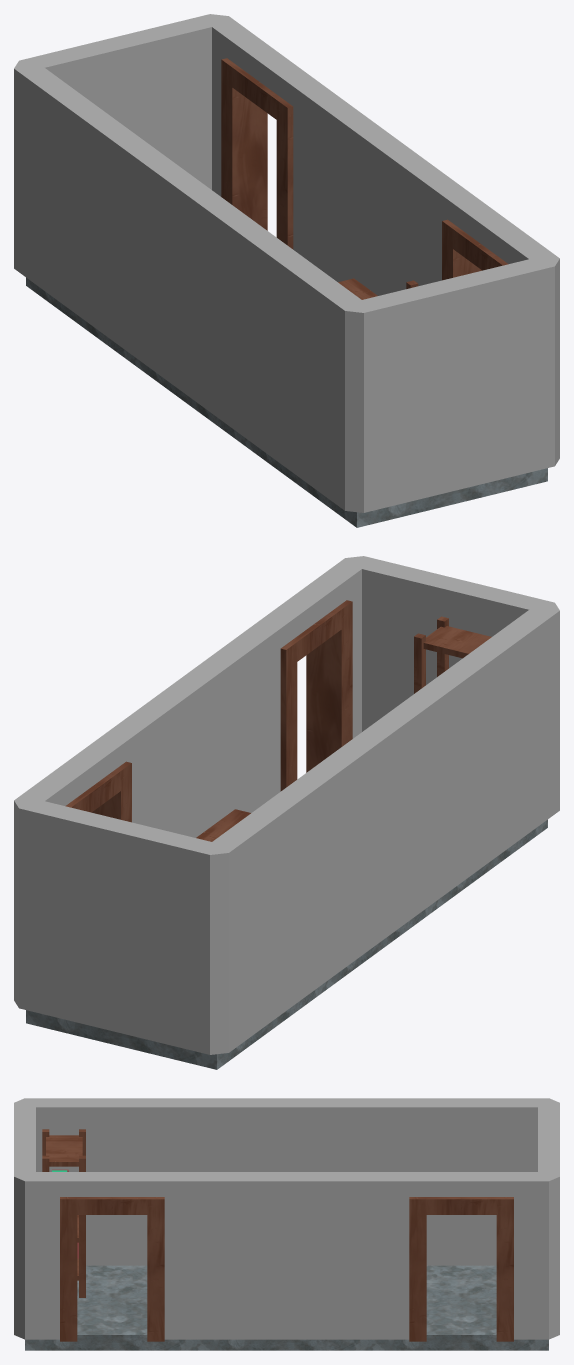
The model's file is Level_1_3.fbx.
3 views of the same model, one above another, from view 1: azimuth 30°, elevation 25°; view 2: azimuth 150°, elevation 25°; view 3: azimuth 270°, elevation 25° (orthographic). The views are drawn at different scales.
Visible parts, largest first — view 1: mergedBlocks; view 2: mergedBlocks; view 3: mergedBlocks.
Part boxes in pixels (x1,y1,x2,y2): mergedBlocks: [14, 14, 559, 527]; mergedBlocks: [14, 556, 559, 1069]; mergedBlocks: [14, 1098, 559, 1350].
Size of the model in its own units: 23.1 by 22 by 62.5.
Materials: 8 (2 with a texture image).
